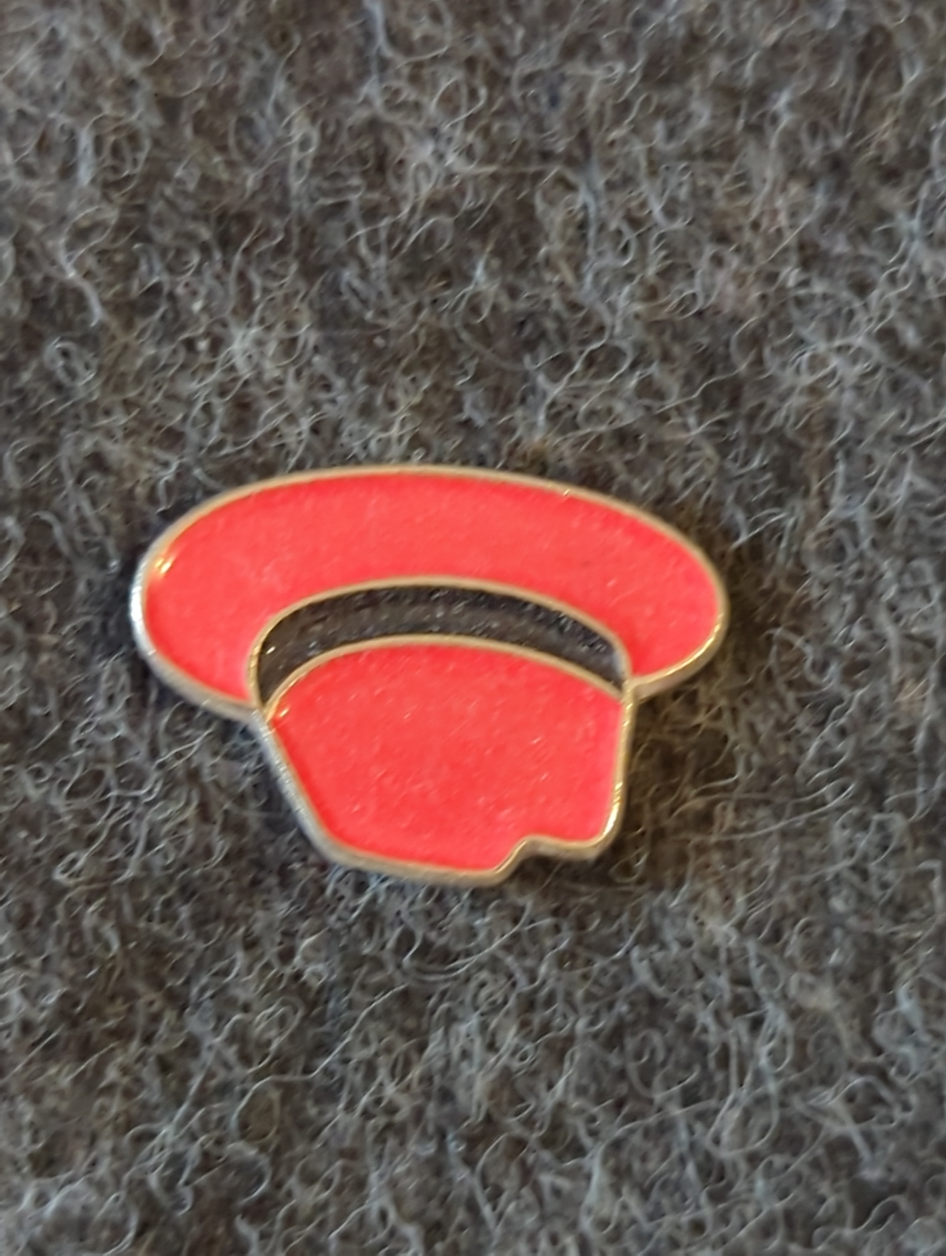Red-Hat: (34, 387, 822, 1061)
